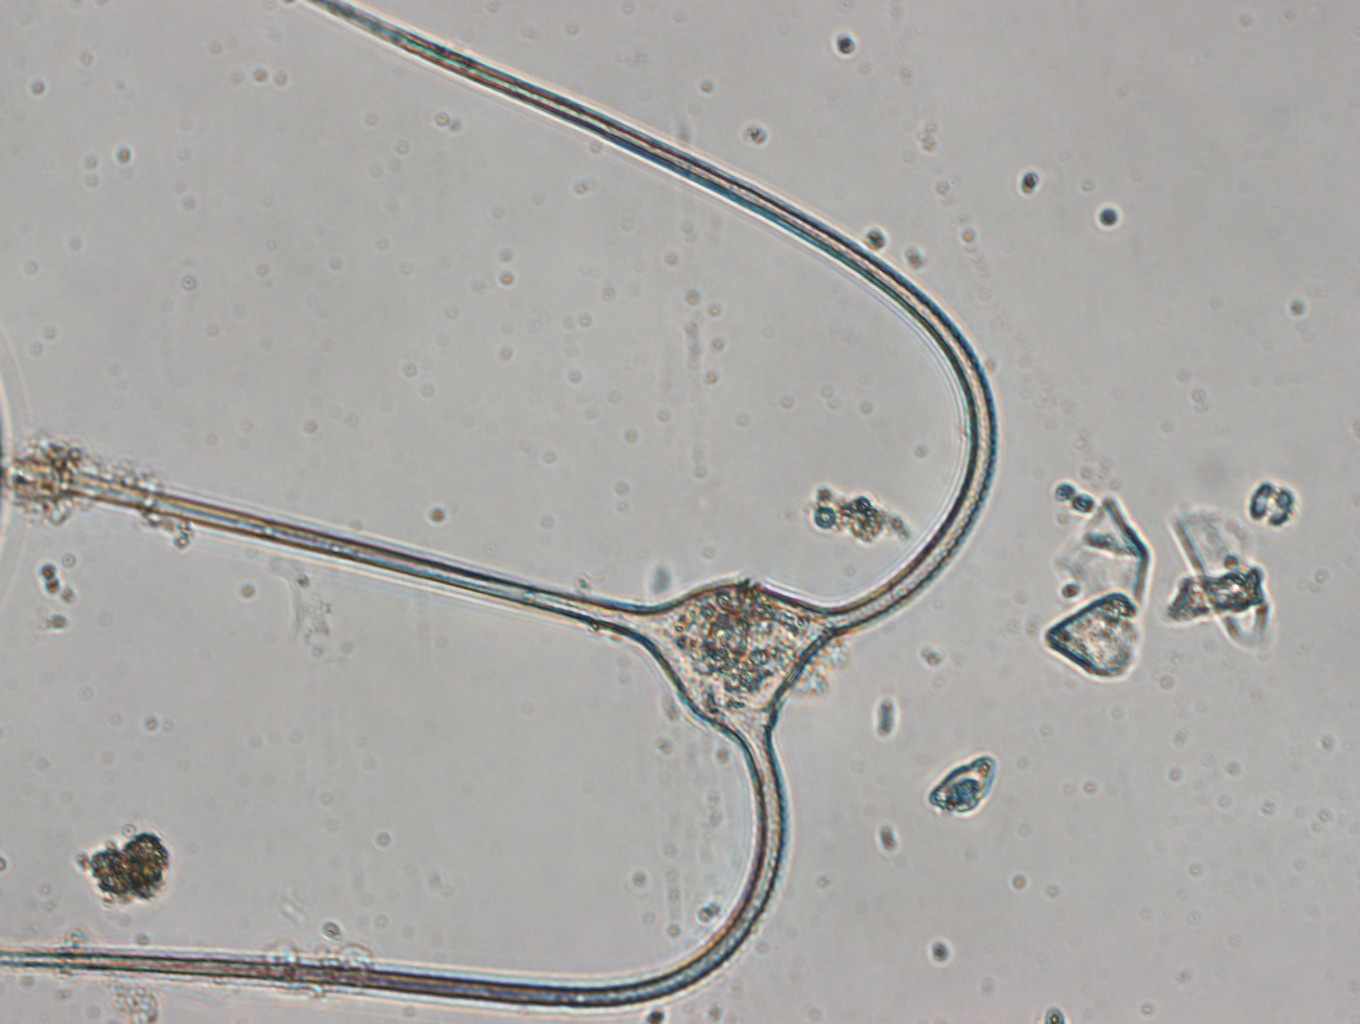ceratium trichoceros: (3, 1, 999, 1009)
